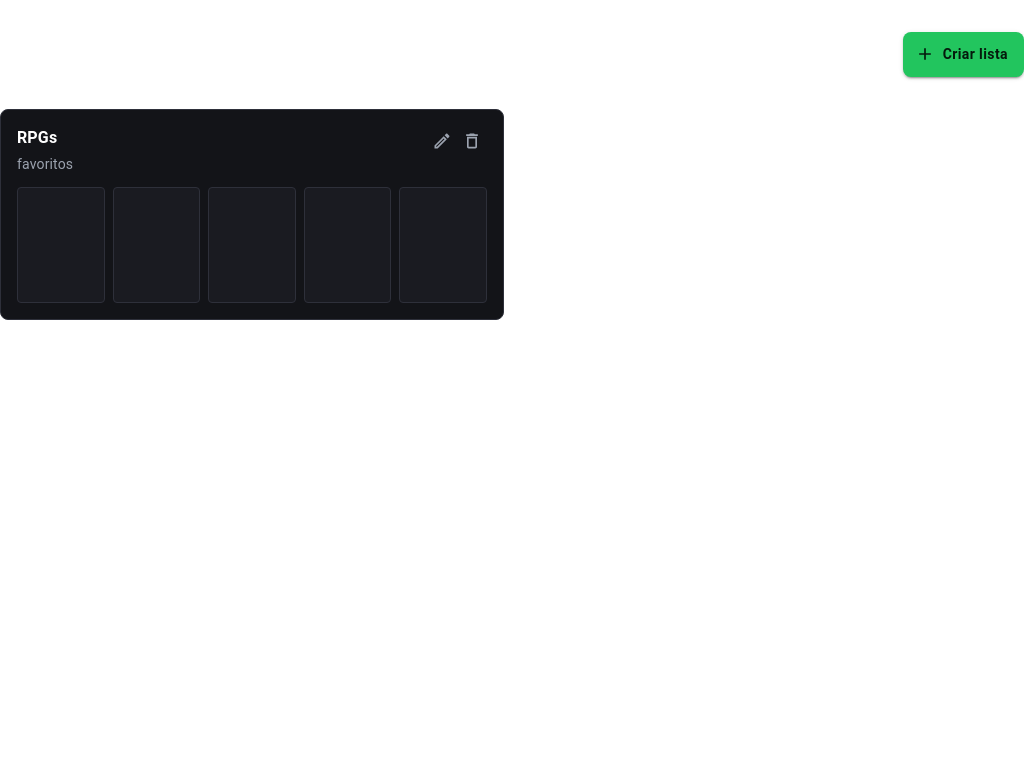
Test: deletes a list after confirming and shows success feedback
Expected: the text "RPGs" is shown, [17,128,57,146]
What coordinates should you click on to do the following:
click the button named "Excluir lista"
I would click on:
 (472, 140)
Its box is [457,126,487,156].
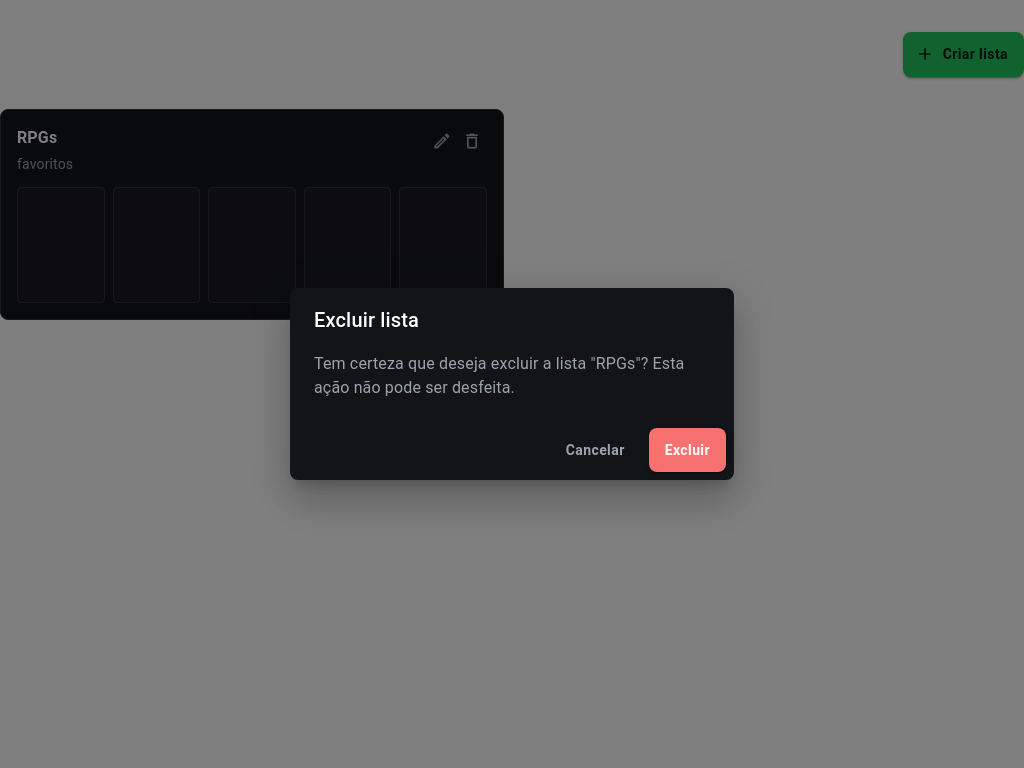
What coordinates should you click on to do the following:
click the button "Excluir"
I would click on:
 (687, 450)
Its box is [649,428,726,472].
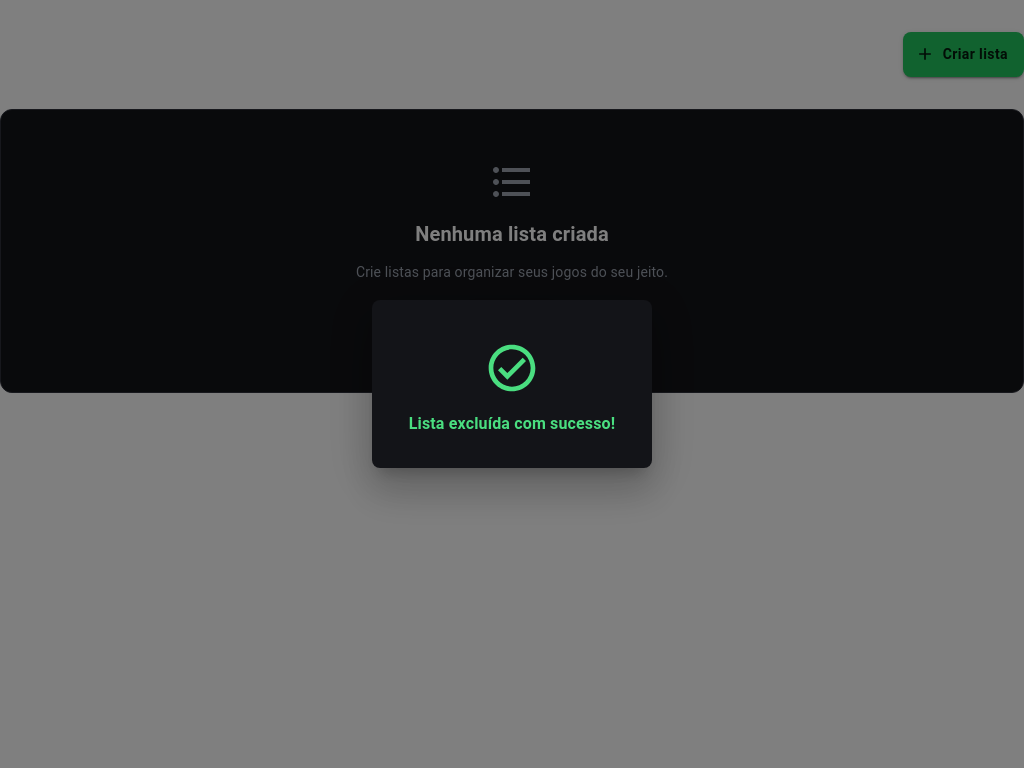
Expected: the text "Lista excluída com sucesso!" is shown, [409,412,615,436]
Expected: the link "RPGs" is gone
